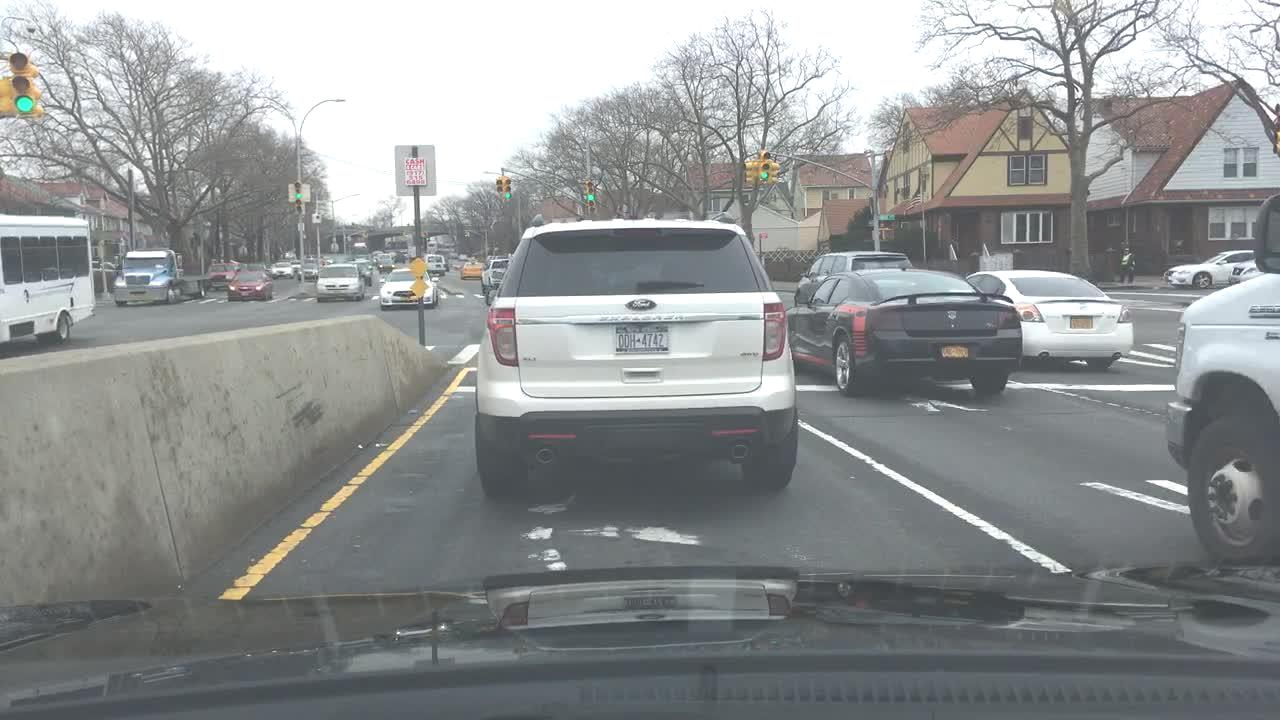ford: (624, 296, 658, 314)
